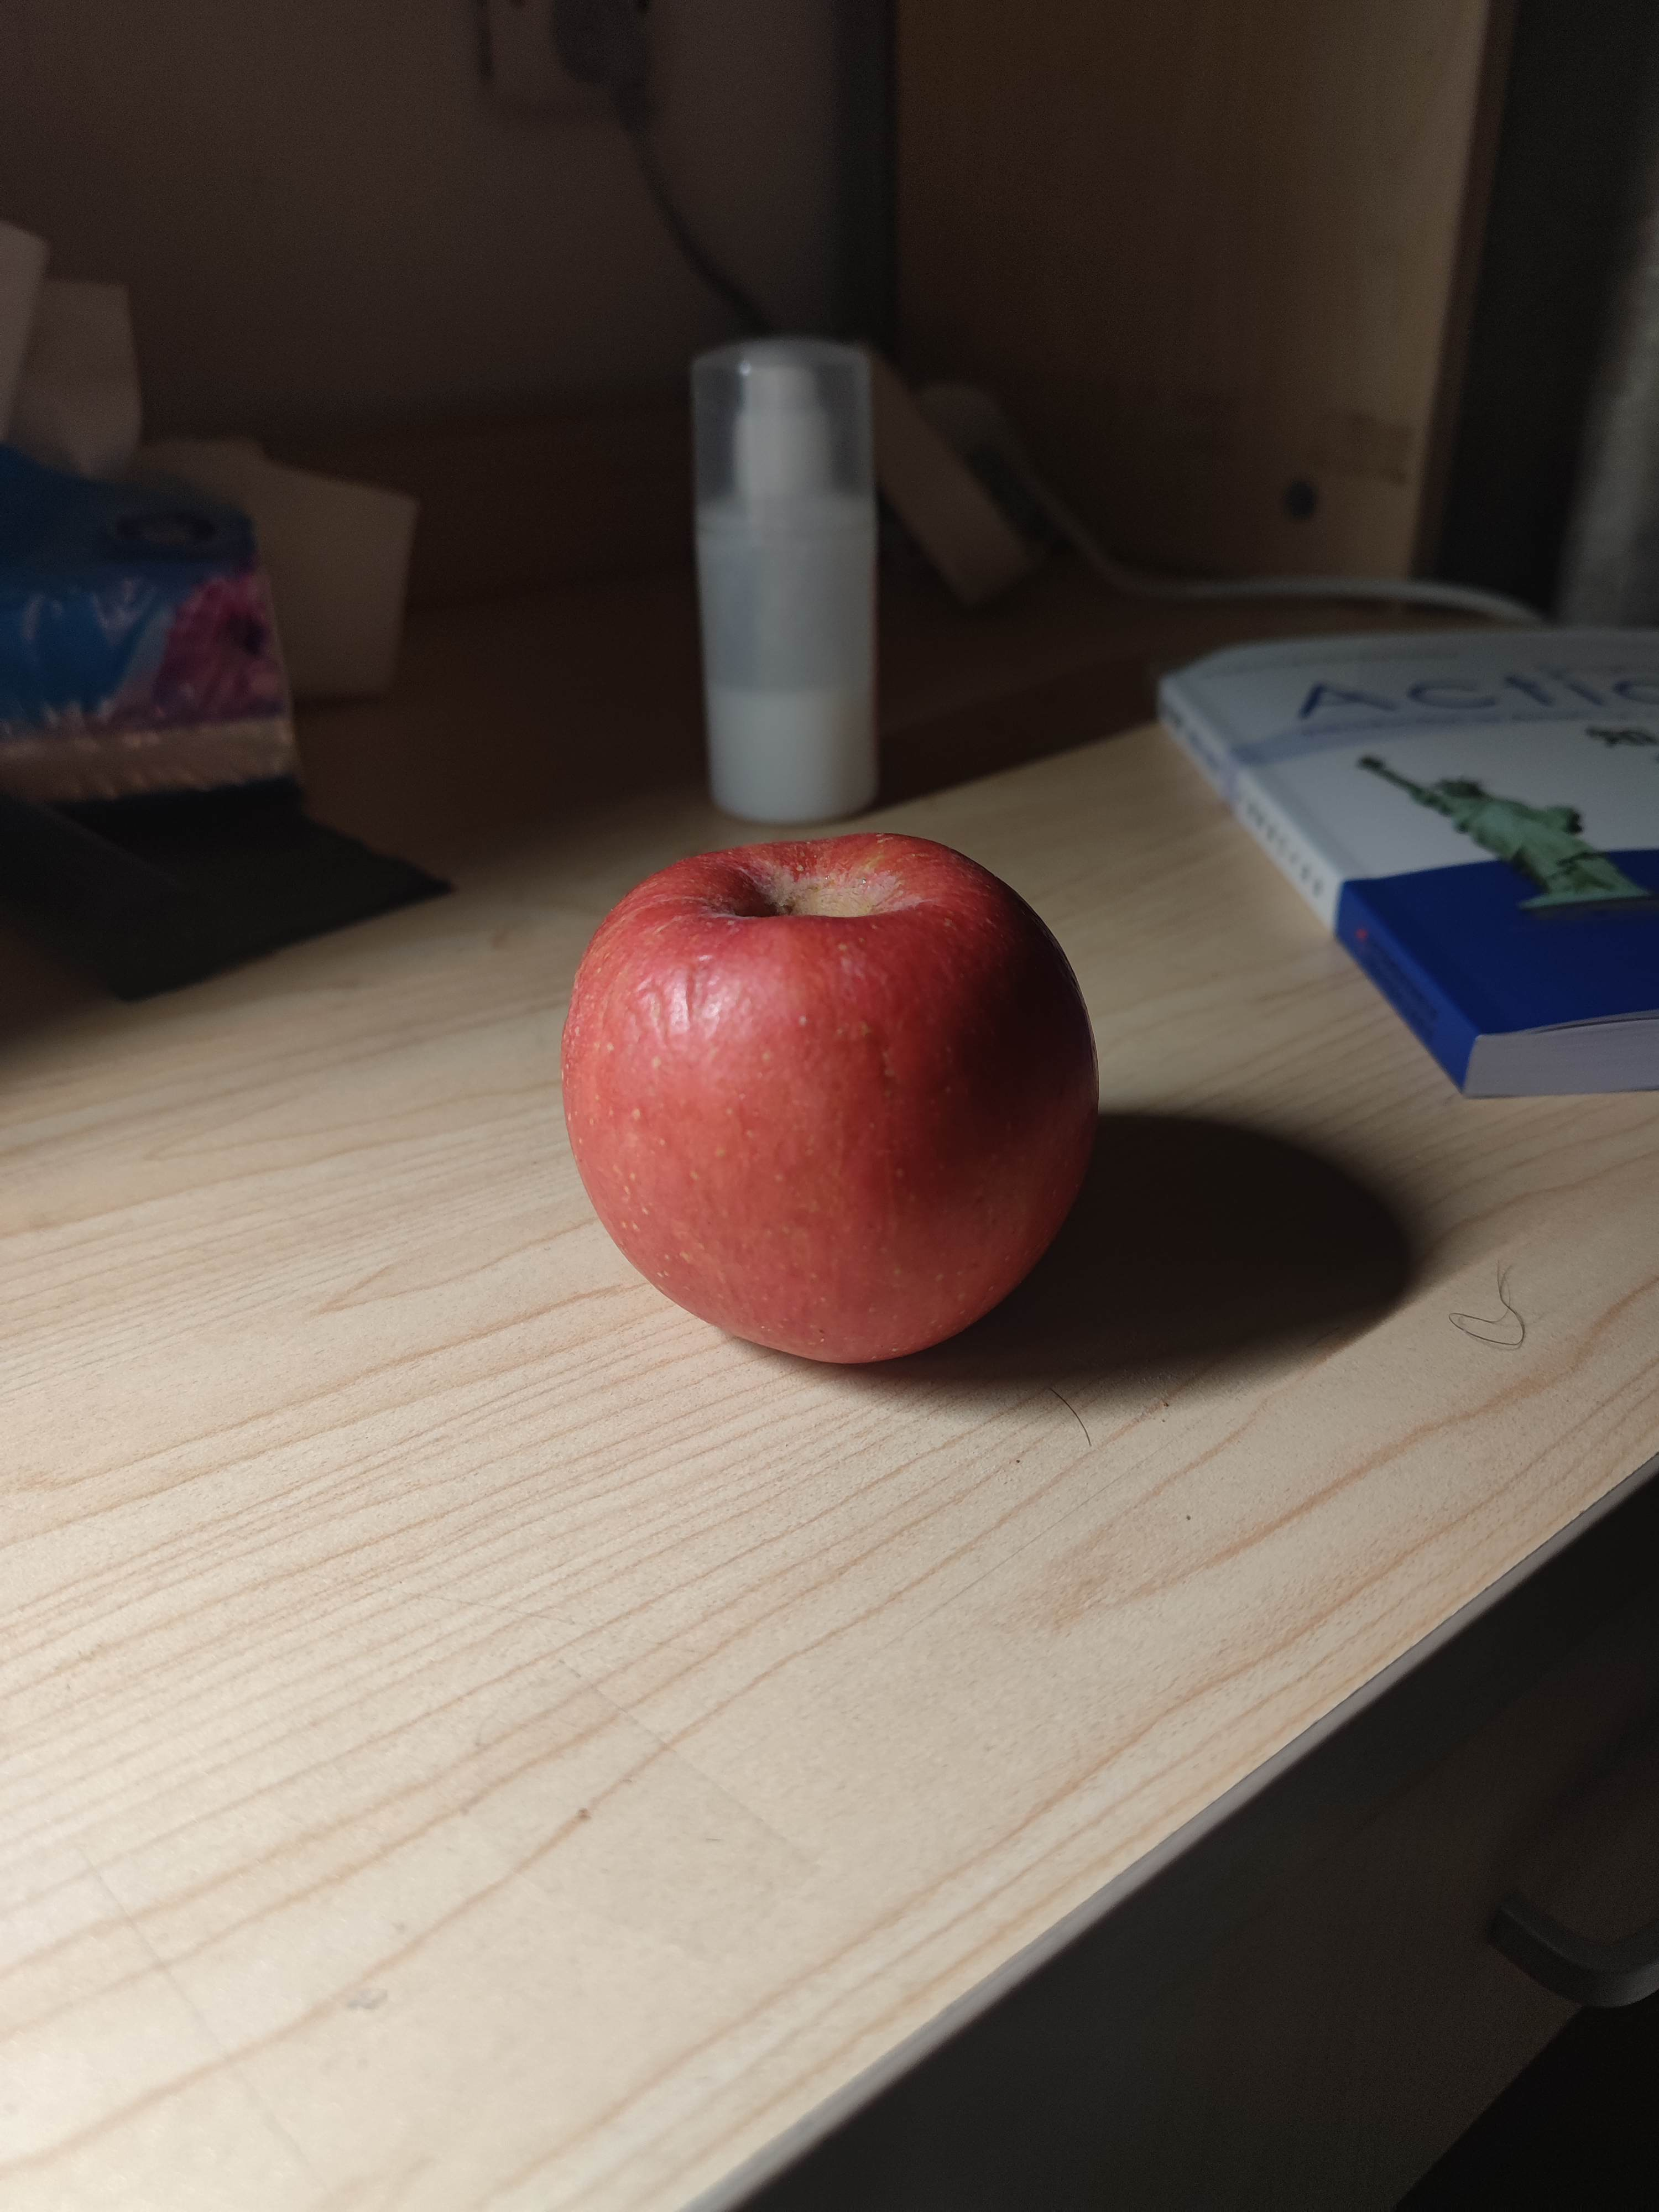apple: (563, 829, 1093, 1374)
